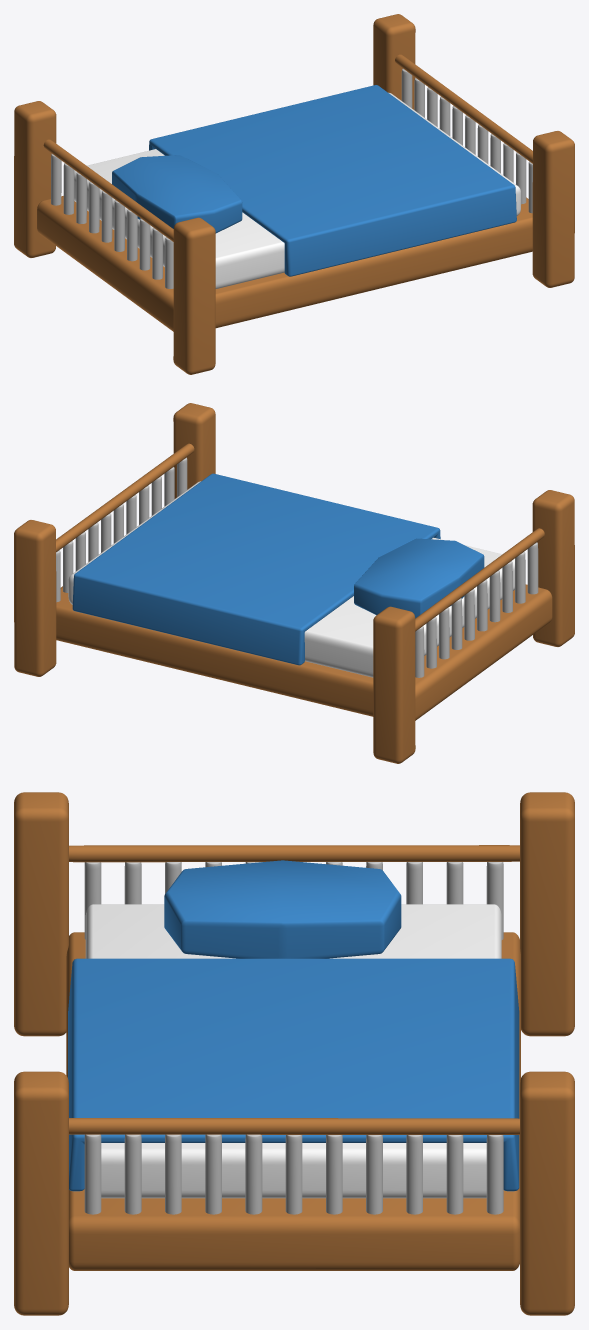
The model's file is simple_single_bed.obj.
3 renders of one model, top to bottom at view 1: azimuth 30°, elevation 25°; view 2: azimuth 150°, elevation 25°; view 3: azimuth 270°, elevation 25°, orthographic. The views are drawn at different scales.
Visible parts, largest first — view 1: simple_single_bed; view 2: simple_single_bed; view 3: simple_single_bed.
Boxes of the visible parts, <box> form: simple_single_bed: <box>14,14,574,374</box>; simple_single_bed: <box>14,403,574,763</box>; simple_single_bed: <box>14,792,574,1315</box>.
Bounding box in the file's own units: 1.87 × 0.665 × 1.48.
